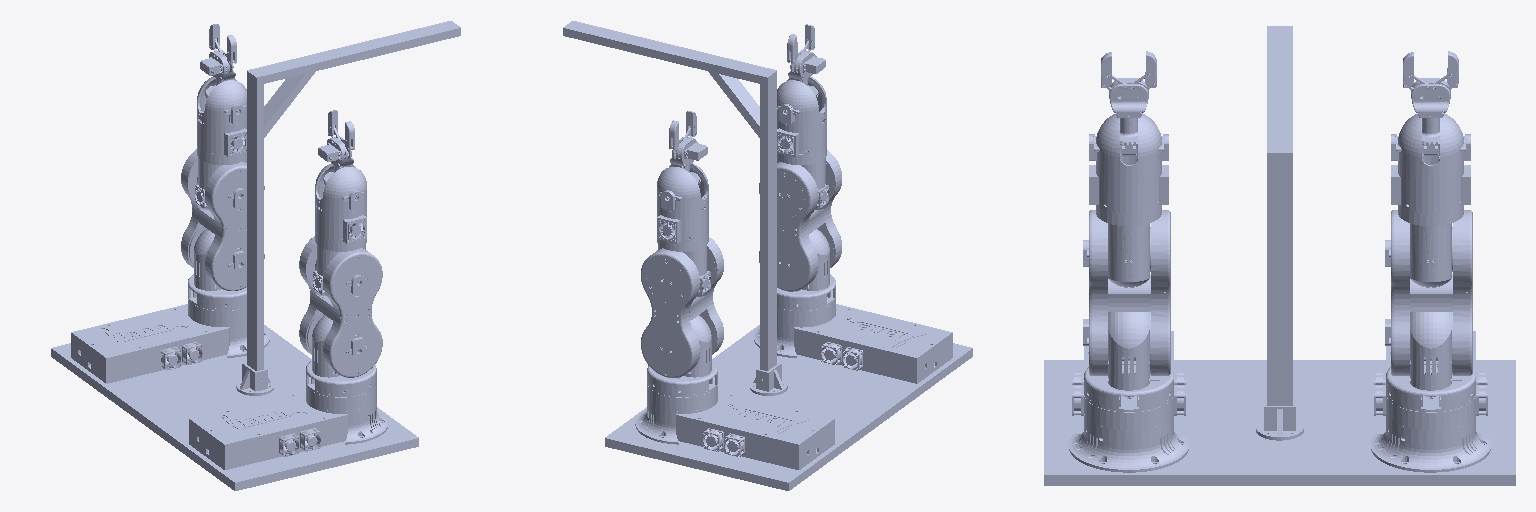
--- Facts derived from the render (not from the file) ---
3 views of the same robot in one strip: view 1: azimuth 30°, elevation 25°; view 2: azimuth 150°, elevation 25°; view 3: azimuth 270°, elevation 25° (orthographic).
Model oscar with 18 links and 17 joints (12 revolute, 5 fixed), rooted at Mesa, posed every joint at zero.
Visible links, largest first — view 1: Mesa, SoporteCamara, Thor1_BaseLink, Thor2_BaseLink, Thor1_Link2, Thor2_Link2, Thor1_Link4, Thor2_Link4, Thor1_Link1, Thor2_Link1, Thor2_Gripper, Thor1_Gripper (+2 smaller); view 2: Mesa, SoporteCamara, Thor2_BaseLink, Thor1_BaseLink, Thor2_Link2, Thor1_Link2, Thor2_Link4, Thor1_Link4, Thor2_Link1, Thor1_Link1, Thor2_Gripper, Thor1_Gripper (+2 smaller); view 3: Mesa, SoporteCamara, Thor2_Link2, Thor1_Link2, Thor1_BaseLink, Thor2_BaseLink, Thor1_Link4, Thor2_Link4, Thor1_Link1, Thor2_Link1, Thor1_Link3, Thor2_Link3 (+2 smaller).
Boxes of the visible links, x1,y1,x2,y2 form: Mesa: [51, 325, 418, 490]; SoporteCamara: [236, 21, 460, 395]; Thor1_BaseLink: [189, 384, 387, 469]; Thor2_BaseLink: [71, 299, 269, 383]; Thor1_Link2: [299, 236, 382, 377]; Thor2_Link2: [181, 149, 264, 290]; Thor1_Link4: [315, 163, 366, 243]; Thor2_Link4: [197, 77, 246, 156]; Thor1_Link1: [306, 312, 376, 397]; Thor2_Link1: [188, 225, 246, 310]; Thor2_Gripper: [200, 24, 236, 81]; Thor1_Gripper: [318, 110, 354, 167]; Mesa: [605, 325, 972, 490]; SoporteCamara: [563, 21, 787, 395]; Thor2_BaseLink: [635, 384, 834, 469]; Thor1_BaseLink: [754, 299, 952, 383]; Thor2_Link2: [641, 237, 723, 377]; Thor1_Link2: [759, 150, 841, 291]; Thor2_Link4: [657, 163, 708, 243]; Thor1_Link4: [777, 77, 826, 156]; Thor2_Link1: [647, 315, 717, 397]; Thor1_Link1: [777, 229, 835, 310]; Thor2_Gripper: [669, 111, 707, 167]; Thor1_Gripper: [787, 24, 825, 81]; Mesa: [1044, 360, 1515, 485]; SoporteCamara: [1256, 26, 1303, 440]; Thor2_Link2: [1385, 210, 1472, 375]; Thor1_Link2: [1083, 210, 1170, 375]; Thor1_BaseLink: [1069, 331, 1188, 472]; Thor2_BaseLink: [1371, 331, 1490, 472]; Thor1_Link4: [1089, 114, 1168, 214]; Thor2_Link4: [1391, 114, 1470, 214]; Thor1_Link1: [1084, 312, 1173, 411]; Thor2_Link1: [1386, 312, 1475, 411]; Thor1_Link3: [1096, 205, 1161, 287]; Thor2_Link3: [1398, 205, 1463, 287].
Bounding box of the posed robot: 0.7652 × 0.78 × 0.755 m (x, y, z).
Meshes: 18 distinct files referenced, 18 mesh visuals loaded (18 binary STL).

URDF robot description (oscar):
<?xml version="1.0" encoding="utf-8" ?>
<!-- This URDF was automatically created by SolidWorks to URDF Exporter! Originally created by Stephen Brawner ([email redacted]) 
     Commit Version: 1.6.0-4-g7f85cfe  Build Version: 1.6.7995.38578
     For more information, please see http://wiki.ros.org/sw_urdf_exporter -->
<robot name="oscar">
    <link name="Mesa">
        <inertial>
            <origin xyz="0 1.2490009027033E-16 -0.01" rpy="0 0 0" />
            <mass value="7.02" />
            <inertia ixx="0.356148" ixy="3.84706155820425E-17" ixz="8.44376651931703E-21" iyy="0.1186965" iyz="3.52365706057789E-19" izz="0.4743765" />
        </inertial>
        <visual>
            <origin xyz="0 0 0" rpy="0 0 0" />
            <geometry>
                <mesh filename="package://oscar/meshes/Mesa.STL" />
            </geometry>
            <material name="">
                <color rgba="0.792156862745098 0.819607843137255 0.933333333333333 1" />
            </material>
        </visual>
        <collision>
            <origin xyz="0 0 0" rpy="0 0 0" />
            <geometry>
                <mesh filename="package://oscar/meshes/Mesa.STL" />
            </geometry>
        </collision>
    </link>
    <link name="Thor1_BaseLink">
        <inertial>
            <origin xyz="-0.088732731563341 -0.000696290560320056 0.0403221329276099" rpy="0 0 0" />
            <mass value="1.35349565438478" />
            <inertia ixx="0.00345373135756371" ixy="2.21025986127605E-05" ixz="-2.39920619028571E-06" iyy="0.00657106226355986" iyz="1.04292423904486E-05" izz="0.00946412790798534" />
        </inertial>
        <visual>
            <origin xyz="0 0 0" rpy="0 0 0" />
            <geometry>
                <mesh filename="package://oscar/meshes/Thor1_BaseLink.STL" />
            </geometry>
            <material name="">
                <color rgba="0.792156862745098 0.819607843137255 0.933333333333333 1" />
            </material>
        </visual>
        <collision>
            <origin xyz="0 0 0" rpy="0 0 0" />
            <geometry>
                <mesh filename="package://oscar/meshes/Thor1_BaseLink.STL" />
            </geometry>
        </collision>
    </link>
    <joint name="MesaThor1" type="fixed">
        <origin xyz="0.115 -0.25 0" rpy="0 0 0" />
        <parent link="Mesa" />
        <child link="Thor1_BaseLink" />
        <axis xyz="0 0 0" />
    </joint>
    <link name="Thor1_Link1">
        <inertial>
            <origin xyz="-8.13322279868967E-06 0.00220511166887832 0.0721235751007446" rpy="0 0 0" />
            <mass value="0.528448201111755" />
            <inertia ixx="0.00147868606346454" ixy="1.84225927398496E-07" ixz="-1.88043504000894E-07" iyy="0.0016458071236998" iyz="-1.09432435994869E-05" izz="0.00141885836528446" />
        </inertial>
        <visual>
            <origin xyz="0 0 0" rpy="0 0 0" />
            <geometry>
                <mesh filename="package://oscar/meshes/Thor1_Link1.STL" />
            </geometry>
            <material name="">
                <color rgba="0.792156862745098 0.819607843137255 0.933333333333333 1" />
            </material>
        </visual>
        <collision>
            <origin xyz="0 0 0" rpy="0 0 0" />
            <geometry>
                <mesh filename="package://oscar/meshes/Thor1_Link1.STL" />
            </geometry>
        </collision>
    </link>
    <joint name="Thor1_Joint1" type="revolute">
        <origin xyz="0 0 0.0855" rpy="0 0 0" />
        <parent link="Thor1_BaseLink" />
        <child link="Thor1_Link1" />
        <axis xyz="0 0 1" />
        <limit lower="-3.14" upper="3.14" effort="0" velocity="0" />
    </joint>
    <link name="Thor1_Link2">
        <inertial>
            <origin xyz="1.68503473396697E-07 -0.00602416533059452 0.0873970017818179" rpy="0 0 0" />
            <mass value="0.748707024643049" />
            <inertia ixx="0.00126091714079404" ixy="2.11945398986836E-09" ixz="2.06522477556638E-07" iyy="0.00207599229058418" iyz="4.62627793506807E-06" izz="0.000967970733868419" />
        </inertial>
        <visual>
            <origin xyz="0 0 0" rpy="0 0 0" />
            <geometry>
                <mesh filename="package://oscar/meshes/Thor1_Link2.STL" />
            </geometry>
            <material name="">
                <color rgba="0.792156862745098 0.819607843137255 0.933333333333333 1" />
            </material>
        </visual>
        <collision>
            <origin xyz="0 0 0" rpy="0 0 0" />
            <geometry>
                <mesh filename="package://oscar/meshes/Thor1_Link2.STL" />
            </geometry>
        </collision>
    </link>
    <joint name="Thor1_Joint2" type="revolute">
        <origin xyz="0 0 0.116" rpy="0 0 0" />
        <parent link="Thor1_Link1" />
        <child link="Thor1_Link2" />
        <axis xyz="0 1 0" />
        <limit lower="-1.57" upper="1.57" effort="0" velocity="0" />
    </joint>
    <link name="Thor1_Link3">
        <inertial>
            <origin xyz="-0.000876620961288266 0.00735310117782434 0.012212233378787" rpy="0 0 0" />
            <mass value="0.337466726955714" />
            <inertia ixx="0.000878122776612644" ixy="3.94023197228323E-08" ixz="3.87921033565621E-06" iyy="0.000960914147898031" iyz="1.4374998999796E-06" izz="0.000512084757924641" />
        </inertial>
        <visual>
            <origin xyz="0 0 0" rpy="0 0 0" />
            <geometry>
                <mesh filename="package://oscar/meshes/Thor1_Link3.STL" />
            </geometry>
            <material name="">
                <color rgba="0.792156862745098 0.819607843137255 0.933333333333333 1" />
            </material>
        </visual>
        <collision>
            <origin xyz="0 0 0" rpy="0 0 0" />
            <geometry>
                <mesh filename="package://oscar/meshes/Thor1_Link3.STL" />
            </geometry>
        </collision>
    </link>
    <joint name="Thor1_Joint3" type="revolute">
        <origin xyz="0 0 0.16" rpy="0 0 0" />
        <parent link="Thor1_Link2" />
        <child link="Thor1_Link3" />
        <axis xyz="0 1 0" />
        <limit lower="-1.57" upper="1.57" effort="0" velocity="0" />
    </joint>
    <link name="Thor1_Link4">
        <inertial>
            <origin xyz="0.000125096015636372 -2.68102434501927E-05 0.119539752597568" rpy="0 0 0" />
            <mass value="0.443353136180227" />
            <inertia ixx="0.000818156815958452" ixy="-1.59438894670143E-07" ixz="-7.61447124293743E-09" iyy="0.000828622503870771" iyz="-2.12145230603761E-08" izz="0.000734466992584916" />
        </inertial>
        <visual>
            <origin xyz="0 0 0" rpy="0 0 0" />
            <geometry>
                <mesh filename="package://oscar/meshes/Thor1_Link4.STL" />
            </geometry>
            <material name="">
                <color rgba="0.792156862745098 0.819607843137255 0.933333333333333 1" />
            </material>
        </visual>
        <collision>
            <origin xyz="0 0 0" rpy="0 0 0" />
            <geometry>
                <mesh filename="package://oscar/meshes/Thor1_Link4.STL" />
            </geometry>
        </collision>
    </link>
    <joint name="Thor1_Joint4" type="revolute">
        <origin xyz="0 0 0.01" rpy="0 0 0" />
        <parent link="Thor1_Link3" />
        <child link="Thor1_Link4" />
        <axis xyz="0 0 1" />
        <limit lower="-3.14" upper="3.14" effort="0" velocity="0" />
    </joint>
    <link name="Thor1_Link5">
        <inertial>
            <origin xyz="1.96951839084303E-05 -8.60538408876677E-05 0.00125968021866163" rpy="0 0 0" />
            <mass value="0.0210713735594725" />
            <inertia ixx="3.34114385808647E-06" ixy="1.07782815564477E-21" ixz="-4.62195416042385E-18" iyy="3.16146785458146E-06" iyz="-5.19121045583867E-20" izz="2.94173670338704E-06" />
        </inertial>
        <visual>
            <origin xyz="0 0 0" rpy="0 0 0" />
            <geometry>
                <mesh filename="package://oscar/meshes/Thor1_Link5.STL" />
            </geometry>
            <material name="">
                <color rgba="0.792156862745098 0.819607843137255 0.933333333333333 1" />
            </material>
        </visual>
        <collision>
            <origin xyz="0 0 0" rpy="0 0 0" />
            <geometry>
                <mesh filename="package://oscar/meshes/Thor1_Link5.STL" />
            </geometry>
        </collision>
    </link>
    <joint name="Thor1_Joint5" type="revolute">
        <origin xyz="0 0 0.183" rpy="0 0 0" />
        <parent link="Thor1_Link4" />
        <child link="Thor1_Link5" />
        <axis xyz="0 1 0" />
        <limit lower="-1.57" upper="1.57" effort="0" velocity="0" />
    </joint>
    <link name="Thor1_Link6">
        <inertial>
            <origin xyz="-0.000115245777233097 4.26511816420394E-07 0.0189937181890166" rpy="0 0 0" />
            <mass value="0.0428804909649792" />
            <inertia ixx="1.84967966010554E-05" ixy="-8.49630537578657E-10" ixz="-4.75128756934783E-11" iyy="1.84958092478678E-05" iyz="9.05654752426967E-11" izz="1.86528444833182E-05" />
        </inertial>
        <visual>
            <origin xyz="0 0 0" rpy="0 0 0" />
            <geometry>
                <mesh filename="package://oscar/meshes/Thor1_Link6.STL" />
            </geometry>
            <material name="">
                <color rgba="0.792156862745098 0.819607843137255 0.933333333333333 1" />
            </material>
        </visual>
        <collision>
            <origin xyz="0 0 0" rpy="0 0 0" />
            <geometry>
                <mesh filename="package://oscar/meshes/Thor1_Link6.STL" />
            </geometry>
        </collision>
    </link>
    <joint name="Thor1_Joint6" type="revolute">
        <origin xyz="0.00011503 0 0.0099993" rpy="0 0 0" />
        <parent link="Thor1_Link5" />
        <child link="Thor1_Link6" />
        <axis xyz="0 0 1" />
        <limit lower="-3.14" upper="3.14" effort="0" velocity="0" />
    </joint>
    <link name="Thor1_Gripper">
        <inertial>
            <origin xyz="-0.00833013467649024 -0.000303355897597668 -0.0562584449883399" rpy="0 0 0" />
            <mass value="0.117341098785976" />
            <inertia ixx="4.11548965588065E-05" ixy="4.1855817604596E-08" ixz="9.21090231552191E-07" iyy="2.47325809445551E-05" iyz="-3.49966955337043E-07" izz="2.66067052306754E-05" />
        </inertial>
        <visual>
            <origin xyz="0 0 0" rpy="0 0 0" />
            <geometry>
                <mesh filename="package://oscar/meshes/Thor1_Gripper.STL" />
            </geometry>
            <material name="">
                <color rgba="0.792156862745098 0.819607843137255 0.933333333333333 1" />
            </material>
        </visual>
        <collision>
            <origin xyz="0 0 0" rpy="0 0 0" />
            <geometry>
                <mesh filename="package://oscar/meshes/Thor1_Gripper.STL" />
            </geometry>
        </collision>
    </link>
    <joint name="Thor1_efector" type="fixed">
        <origin xyz="-0.00026503 -0.00051111 0.1422" rpy="0 0 0" />
        <parent link="Thor1_Link6" />
        <child link="Thor1_Gripper" />
        <axis xyz="0 0 0" />
    </joint>
    <link name="Thor2_BaseLink">
        <inertial>
            <origin xyz="-0.0887327413871597 -0.000696288545400381 0.0403221343206042" rpy="0 0 0" />
            <mass value="1.35349575334164" />
            <inertia ixx="0.00345373142810176" ixy="2.21026518075428E-05" ixz="-2.39919990351711E-06" iyy="0.00657106233625328" iyz="1.04292369753038E-05" izz="0.00946412805045056" />
        </inertial>
        <visual>
            <origin xyz="0 0 0" rpy="0 0 0" />
            <geometry>
                <mesh filename="package://oscar/meshes/Thor2_BaseLink.STL" />
            </geometry>
            <material name="">
                <color rgba="0.792156862745098 0.819607843137255 0.933333333333333 1" />
            </material>
        </visual>
        <collision>
            <origin xyz="0 0 0" rpy="0 0 0" />
            <geometry>
                <mesh filename="package://oscar/meshes/Thor2_BaseLink.STL" />
            </geometry>
        </collision>
    </link>
    <joint name="MesaThor2" type="fixed">
        <origin xyz="0.115 0.25 0" rpy="0 0 0" />
        <parent link="Mesa" />
        <child link="Thor2_BaseLink" />
        <axis xyz="0 0 0" />
    </joint>
    <link name="Thor2_Link1">
        <inertial>
            <origin xyz="-8.1332227889197E-06 0.00220511166888307 0.0721235751007427" rpy="0 0 0" />
            <mass value="0.528448201111754" />
            <inertia ixx="0.00147868606346454" ixy="1.84225927394288E-07" ixz="-1.88043504001821E-07" iyy="0.0016458071236998" iyz="-1.09432435994845E-05" izz="0.00141885836528446" />
        </inertial>
        <visual>
            <origin xyz="0 0 0" rpy="0 0 0" />
            <geometry>
                <mesh filename="package://oscar/meshes/Thor2_Link1.STL" />
            </geometry>
            <material name="">
                <color rgba="0.792156862745098 0.819607843137255 0.933333333333333 1" />
            </material>
        </visual>
        <collision>
            <origin xyz="0 0 0" rpy="0 0 0" />
            <geometry>
                <mesh filename="package://oscar/meshes/Thor2_Link1.STL" />
            </geometry>
        </collision>
    </link>
    <joint name="Thor2_Joint1" type="revolute">
        <origin xyz="0 0 0.0855" rpy="0 0 0" />
        <parent link="Thor2_BaseLink" />
        <child link="Thor2_Link1" />
        <axis xyz="0 0 1" />
        <limit lower="-3.14" upper="3.14" effort="0" velocity="0" />
    </joint>
    <link name="Thor2_Link2">
        <inertial>
            <origin xyz="1.68503813124943E-07 -0.00602416533060843 0.0873970017817492" rpy="0 0 0" />
            <mass value="0.74870702464305" />
            <inertia ixx="0.00126091714079404" ixy="2.11945401700483E-09" ixz="2.06522476459294E-07" iyy="0.00207599229058419" iyz="4.62627793506703E-06" izz="0.000967970733868419" />
        </inertial>
        <visual>
            <origin xyz="0 0 0" rpy="0 0 0" />
            <geometry>
                <mesh filename="package://oscar/meshes/Thor2_Link2.STL" />
            </geometry>
            <material name="">
                <color rgba="0.792156862745098 0.819607843137255 0.933333333333333 1" />
            </material>
        </visual>
        <collision>
            <origin xyz="0 0 0" rpy="0 0 0" />
            <geometry>
                <mesh filename="package://oscar/meshes/Thor2_Link2.STL" />
            </geometry>
        </collision>
    </link>
    <joint name="Thor2_Joint2" type="revolute">
        <origin xyz="0 0 0.116" rpy="0 0 0" />
        <parent link="Thor2_Link1" />
        <child link="Thor2_Link2" />
        <axis xyz="0 1 0" />
        <limit lower="-1.57" upper="1.57" effort="0" velocity="0" />
    </joint>
    <link name="Thor2_Link3">
        <inertial>
            <origin xyz="-0.000876620961125951 0.00735310117782512 0.012212233378867" rpy="0 0 0" />
            <mass value="0.337466726955713" />
            <inertia ixx="0.000878122776612641" ixy="3.94023197230028E-08" ixz="3.87921033566083E-06" iyy="0.000960914147898029" iyz="1.43749989997835E-06" izz="0.000512084757924642" />
        </inertial>
        <visual>
            <origin xyz="0 0 0" rpy="0 0 0" />
            <geometry>
                <mesh filename="package://oscar/meshes/Thor2_Link3.STL" />
            </geometry>
            <material name="">
                <color rgba="0.792156862745098 0.819607843137255 0.933333333333333 1" />
            </material>
        </visual>
        <collision>
            <origin xyz="0 0 0" rpy="0 0 0" />
            <geometry>
                <mesh filename="package://oscar/meshes/Thor2_Link3.STL" />
            </geometry>
        </collision>
    </link>
    <joint name="Thor2_Joint3" type="revolute">
        <origin xyz="0 0 0.16" rpy="0 0 0" />
        <parent link="Thor2_Link2" />
        <child link="Thor2_Link3" />
        <axis xyz="0 1 0" />
        <limit lower="-1.57" upper="1.57" effort="0" velocity="0" />
    </joint>
    <link name="Thor2_Link4">
        <inertial>
            <origin xyz="0.00012509616454992 -2.68102434554662E-05 0.11704225259763" rpy="0 0 0" />
            <mass value="0.443353136180448" />
            <inertia ixx="0.000818156815958519" ixy="-1.59438894662387E-07" ixz="-7.61447126272308E-09" iyy="0.000828622503870833" iyz="-2.12145230401108E-08" izz="0.000734466992584937" />
        </inertial>
        <visual>
            <origin xyz="0 0 0" rpy="0 0 0" />
            <geometry>
                <mesh filename="package://oscar/meshes/Thor2_Link4.STL" />
            </geometry>
            <material name="">
                <color rgba="0.792156862745098 0.819607843137255 0.933333333333333 1" />
            </material>
        </visual>
        <collision>
            <origin xyz="0 0 0" rpy="0 0 0" />
            <geometry>
                <mesh filename="package://oscar/meshes/Thor2_Link4.STL" />
            </geometry>
        </collision>
    </link>
    <joint name="Thor2_Joint4" type="revolute">
        <origin xyz="0 0 0.012498" rpy="0 0 0" />
        <parent link="Thor2_Link3" />
        <child link="Thor2_Link4" />
        <axis xyz="0 0 1" />
        <limit lower="-3.14" upper="3.14" effort="0" velocity="0" />
    </joint>
    <link name="Thor2_Link5">
        <inertial>
            <origin xyz="1.96951841238135E-05 -8.60538408610778E-05 0.00125968021865008" rpy="0 0 0" />
            <mass value="0.0210713735594725" />
            <inertia ixx="3.34114385808646E-06" ixy="1.53247214399847E-21" ixz="-4.61488946045489E-18" iyy="3.16146785458145E-06" iyz="-5.36132829938127E-20" izz="2.94173670338703E-06" />
        </inertial>
        <visual>
            <origin xyz="0 0 0" rpy="0 0 0" />
            <geometry>
                <mesh filename="package://oscar/meshes/Thor2_Link5.STL" />
            </geometry>
            <material name="">
                <color rgba="0.792156862745098 0.819607843137255 0.933333333333333 1" />
            </material>
        </visual>
        <collision>
            <origin xyz="0 0 0" rpy="0 0 0" />
            <geometry>
                <mesh filename="package://oscar/meshes/Thor2_Link5.STL" />
            </geometry>
        </collision>
    </link>
    <joint name="Thor2_Joint5" type="revolute">
        <origin xyz="0 0 0.1805" rpy="0 0 0" />
        <parent link="Thor2_Link4" />
        <child link="Thor2_Link5" />
        <axis xyz="0 1 0" />
        <limit lower="-1.57" upper="1.57" effort="0" velocity="0" />
    </joint>
    <link name="Thor2_Link6">
        <inertial>
            <origin xyz="-0.000115245776520889 4.26511943873997E-07 0.0189937181891761" rpy="0 0 0" />
            <mass value="0.0428804909638117" />
            <inertia ixx="1.84967966006921E-05" ixy="-8.49630545949047E-10" ixz="-4.75127098962645E-11" iyy="1.84958092470652E-05" iyz="9.05654992005295E-11" izz="1.86528444822865E-05" />
        </inertial>
        <visual>
            <origin xyz="0 0 0" rpy="0 0 0" />
            <geometry>
                <mesh filename="package://oscar/meshes/Thor2_Link6.STL" />
            </geometry>
            <material name="">
                <color rgba="0.792156862745098 0.819607843137255 0.933333333333333 1" />
            </material>
        </visual>
        <collision>
            <origin xyz="0 0 0" rpy="0 0 0" />
            <geometry>
                <mesh filename="package://oscar/meshes/Thor2_Link6.STL" />
            </geometry>
        </collision>
    </link>
    <joint name="Thor2_Joint6" type="revolute">
        <origin xyz="0.00011503 0 0.0099993" rpy="0 0 0" />
        <parent link="Thor2_Link5" />
        <child link="Thor2_Link6" />
        <axis xyz="0 0 1" />
        <limit lower="-3.14" upper="3.14" effort="0" velocity="0" />
    </joint>
    <link name="Thor2_Gripper">
        <inertial>
            <origin xyz="-0.00833274182551802 -0.000303340874809682 -0.0562549543683204" rpy="0 0 0" />
            <mass value="0.117341098402648" />
            <inertia ixx="4.11548964078966E-05" ixy="4.18557140605978E-08" ixz="9.21090209153993E-07" iyy="2.47325809159059E-05" iyz="-3.49966906400361E-07" izz="2.66067050012778E-05" />
        </inertial>
        <visual>
            <origin xyz="0 0 0" rpy="0 0 0" />
            <geometry>
                <mesh filename="package://oscar/meshes/Thor2_Gripper.STL" />
            </geometry>
            <material name="">
                <color rgba="0.792156862745098 0.819607843137255 0.933333333333333 1" />
            </material>
        </visual>
        <collision>
            <origin xyz="0 0 0" rpy="0 0 0" />
            <geometry>
                <mesh filename="package://oscar/meshes/Thor2_Gripper.STL" />
            </geometry>
        </collision>
    </link>
    <joint name="Thor2_efector" type="fixed">
        <origin xyz="-0.00026243 -0.00051112 0.1422" rpy="0 0 0" />
        <parent link="Thor2_Link6" />
        <child link="Thor2_Gripper" />
        <axis xyz="0 0 0" />
    </joint>
    <link name="SoporteCamara">
        <inertial>
            <origin xyz="0.089524931063286 -0.000280264063290292 0.495224569426337" rpy="0 0 0" />
            <mass value="1.17060628045216" />
            <inertia ixx="0.0241579833272484" ixy="-8.67518141012337E-17" ixz="-0.000137279815063728" iyy="0.0324638841805806" iyz="-1.4456267102742E-18" izz="0.00867798265212148" />
        </inertial>
        <visual>
            <origin xyz="0 0 0" rpy="0 0 0" />
            <geometry>
                <mesh filename="package://oscar/meshes/SoporteCamara.STL" />
            </geometry>
            <material name="">
                <color rgba="0.792156862745098 0.819607843137255 0.933333333333333 1" />
            </material>
        </visual>
        <collision>
            <origin xyz="0 0 0" rpy="0 0 0" />
            <geometry>
                <mesh filename="package://oscar/meshes/SoporteCamara.STL" />
            </geometry>
        </collision>
    </link>
    <joint name="MesaSoporte" type="fixed">
        <origin xyz="0.0494 0 0" rpy="0 0 0" />
        <parent link="Mesa" />
        <child link="SoporteCamara" />
        <axis xyz="0 0 0" />
    </joint>
    <transmission name="trans_Thor1_Joint1">
        <type>transmission_interface/SimpleTransmission</type>
        <joint name="Thor1_Joint1">
            <hardwareInterface>hardware_interface/PositionJointInterface</hardwareInterface>
        </joint>
        <actuator name="Thor1_Joint1_motor">
            <hardwareInterface>hardware_interface/PositionJointInterface</hardwareInterface>
            <mechanicalReduction>1</mechanicalReduction>
        </actuator>
    </transmission>
    <transmission name="trans_Thor1_Joint2">
        <type>transmission_interface/SimpleTransmission</type>
        <joint name="Thor1_Joint2">
            <hardwareInterface>hardware_interface/PositionJointInterface</hardwareInterface>
        </joint>
        <actuator name="Thor1_Joint2_motor">
            <hardwareInterface>hardware_interface/PositionJointInterface</hardwareInterface>
            <mechanicalReduction>1</mechanicalReduction>
        </actuator>
    </transmission>
    <transmission name="trans_Thor1_Joint3">
        <type>transmission_interface/SimpleTransmission</type>
        <joint name="Thor1_Joint3">
            <hardwareInterface>hardware_interface/PositionJointInterface</hardwareInterface>
        </joint>
        <actuator name="Thor1_Joint3_motor">
            <hardwareInterface>hardware_interface/PositionJointInterface</hardwareInterface>
            <mechanicalReduction>1</mechanicalReduction>
        </actuator>
    </transmission>
    <transmission name="trans_Thor1_Joint4">
        <type>transmission_interface/SimpleTransmission</type>
        <joint name="Thor1_Joint4">
            <hardwareInterface>hardware_interface/PositionJointInterface</hardwareInterface>
        </joint>
        <actuator name="Thor1_Joint4_motor">
            <hardwareInterface>hardware_interface/PositionJointInterface</hardwareInterface>
            <mechanicalReduction>1</mechanicalReduction>
        </actuator>
    </transmission>
    <transmission name="trans_Thor1_Joint5">
        <type>transmission_interface/SimpleTransmission</type>
        <joint name="Thor1_Joint5">
            <hardwareInterface>hardware_interface/PositionJointInterface</hardwareInterface>
        </joint>
        <actuator name="Thor1_Joint5_motor">
            <hardwareInterface>hardware_interface/PositionJointInterface</hardwareInterface>
            <mechanicalReduction>1</mechanicalReduction>
        </actuator>
    </transmission>
    <transmission name="trans_Thor1_Joint6">
        <type>transmission_interface/SimpleTransmission</type>
        <joint name="Thor1_Joint6">
            <hardwareInterface>hardware_interface/PositionJointInterface</hardwareInterface>
        </joint>
        <actuator name="Thor1_Joint6_motor">
            <hardwareInterface>hardware_interface/PositionJointInterface</hardwareInterface>
            <mechanicalReduction>1</mechanicalReduction>
        </actuator>
    </transmission>
    <transmission name="trans_Thor2_Joint1">
        <type>transmission_interface/SimpleTransmission</type>
        <joint name="Thor2_Joint1">
            <hardwareInterface>hardware_interface/PositionJointInterface</hardwareInterface>
        </joint>
        <actuator name="Thor2_Joint1_motor">
            <hardwareInterface>hardware_interface/PositionJointInterface</hardwareInterface>
            <mechanicalReduction>1</mechanicalReduction>
        </actuator>
    </transmission>
    <transmission name="trans_Thor2_Joint2">
        <type>transmission_interface/SimpleTransmission</type>
        <joint name="Thor2_Joint2">
            <hardwareInterface>hardware_interface/PositionJointInterface</hardwareInterface>
        </joint>
        <actuator name="Thor2_Joint2_motor">
            <hardwareInterface>hardware_interface/PositionJointInterface</hardwareInterface>
            <mechanicalReduction>1</mechanicalReduction>
        </actuator>
    </transmission>
    <transmission name="trans_Thor2_Joint3">
        <type>transmission_interface/SimpleTransmission</type>
        <joint name="Thor2_Joint3">
            <hardwareInterface>hardware_interface/PositionJointInterface</hardwareInterface>
        </joint>
        <actuator name="Thor2_Joint3_motor">
            <hardwareInterface>hardware_interface/PositionJointInterface</hardwareInterface>
            <mechanicalReduction>1</mechanicalReduction>
        </actuator>
    </transmission>
    <transmission name="trans_Thor2_Joint4">
        <type>transmission_interface/SimpleTransmission</type>
        <joint name="Thor2_Joint4">
            <hardwareInterface>hardware_interface/PositionJointInterface</hardwareInterface>
        </joint>
        <actuator name="Thor2_Joint4_motor">
            <hardwareInterface>hardware_interface/PositionJointInterface</hardwareInterface>
            <mechanicalReduction>1</mechanicalReduction>
        </actuator>
    </transmission>
    <transmission name="trans_Thor2_Joint5">
        <type>transmission_interface/SimpleTransmission</type>
        <joint name="Thor2_Joint5">
            <hardwareInterface>hardware_interface/PositionJointInterface</hardwareInterface>
        </joint>
        <actuator name="Thor2_Joint5_motor">
            <hardwareInterface>hardware_interface/PositionJointInterface</hardwareInterface>
            <mechanicalReduction>1</mechanicalReduction>
        </actuator>
    </transmission>
    <transmission name="trans_Thor2_Joint6">
        <type>transmission_interface/SimpleTransmission</type>
        <joint name="Thor2_Joint6">
            <hardwareInterface>hardware_interface/PositionJointInterface</hardwareInterface>
        </joint>
        <actuator name="Thor2_Joint6_motor">
            <hardwareInterface>hardware_interface/PositionJointInterface</hardwareInterface>
            <mechanicalReduction>1</mechanicalReduction>
        </actuator>
    </transmission>
    <gazebo>
        <plugin name="gazebo_ros_control">
            <robotNamespace>/</robotNamespace>
        </plugin>
    </gazebo>
</robot>
